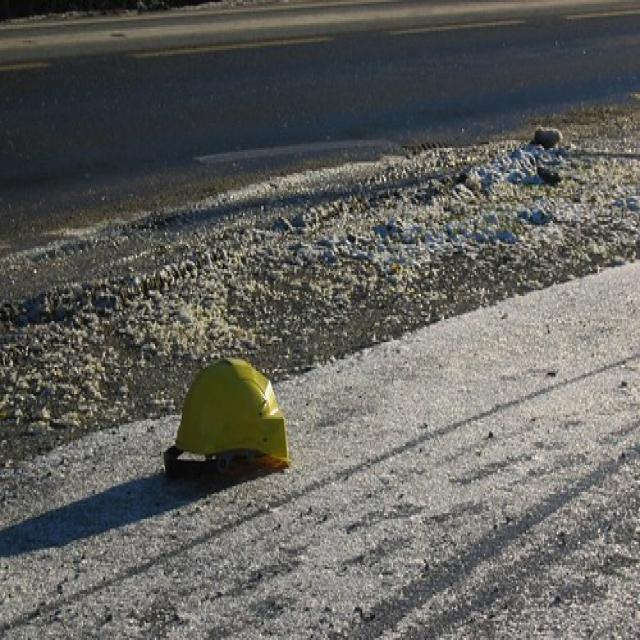Safety-Helmet: (165, 349, 296, 476)
